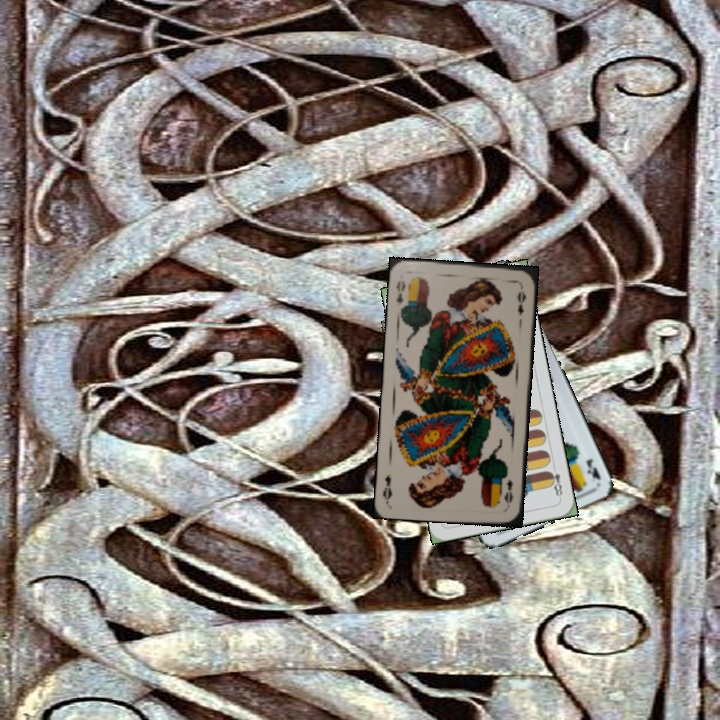E8: (544, 461, 565, 502)
EK: (582, 455, 603, 482)
EO: (392, 276, 408, 309), (500, 476, 516, 506)
